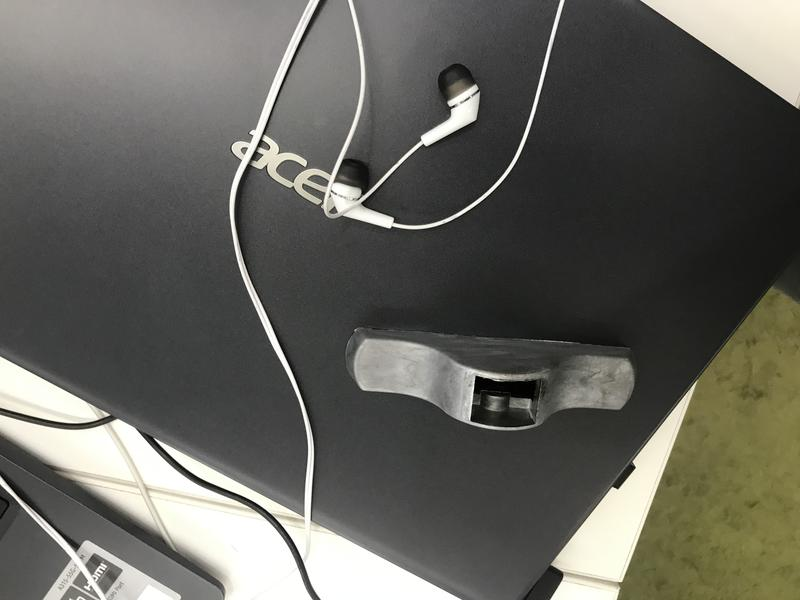zapchast: (330, 313, 649, 438)
